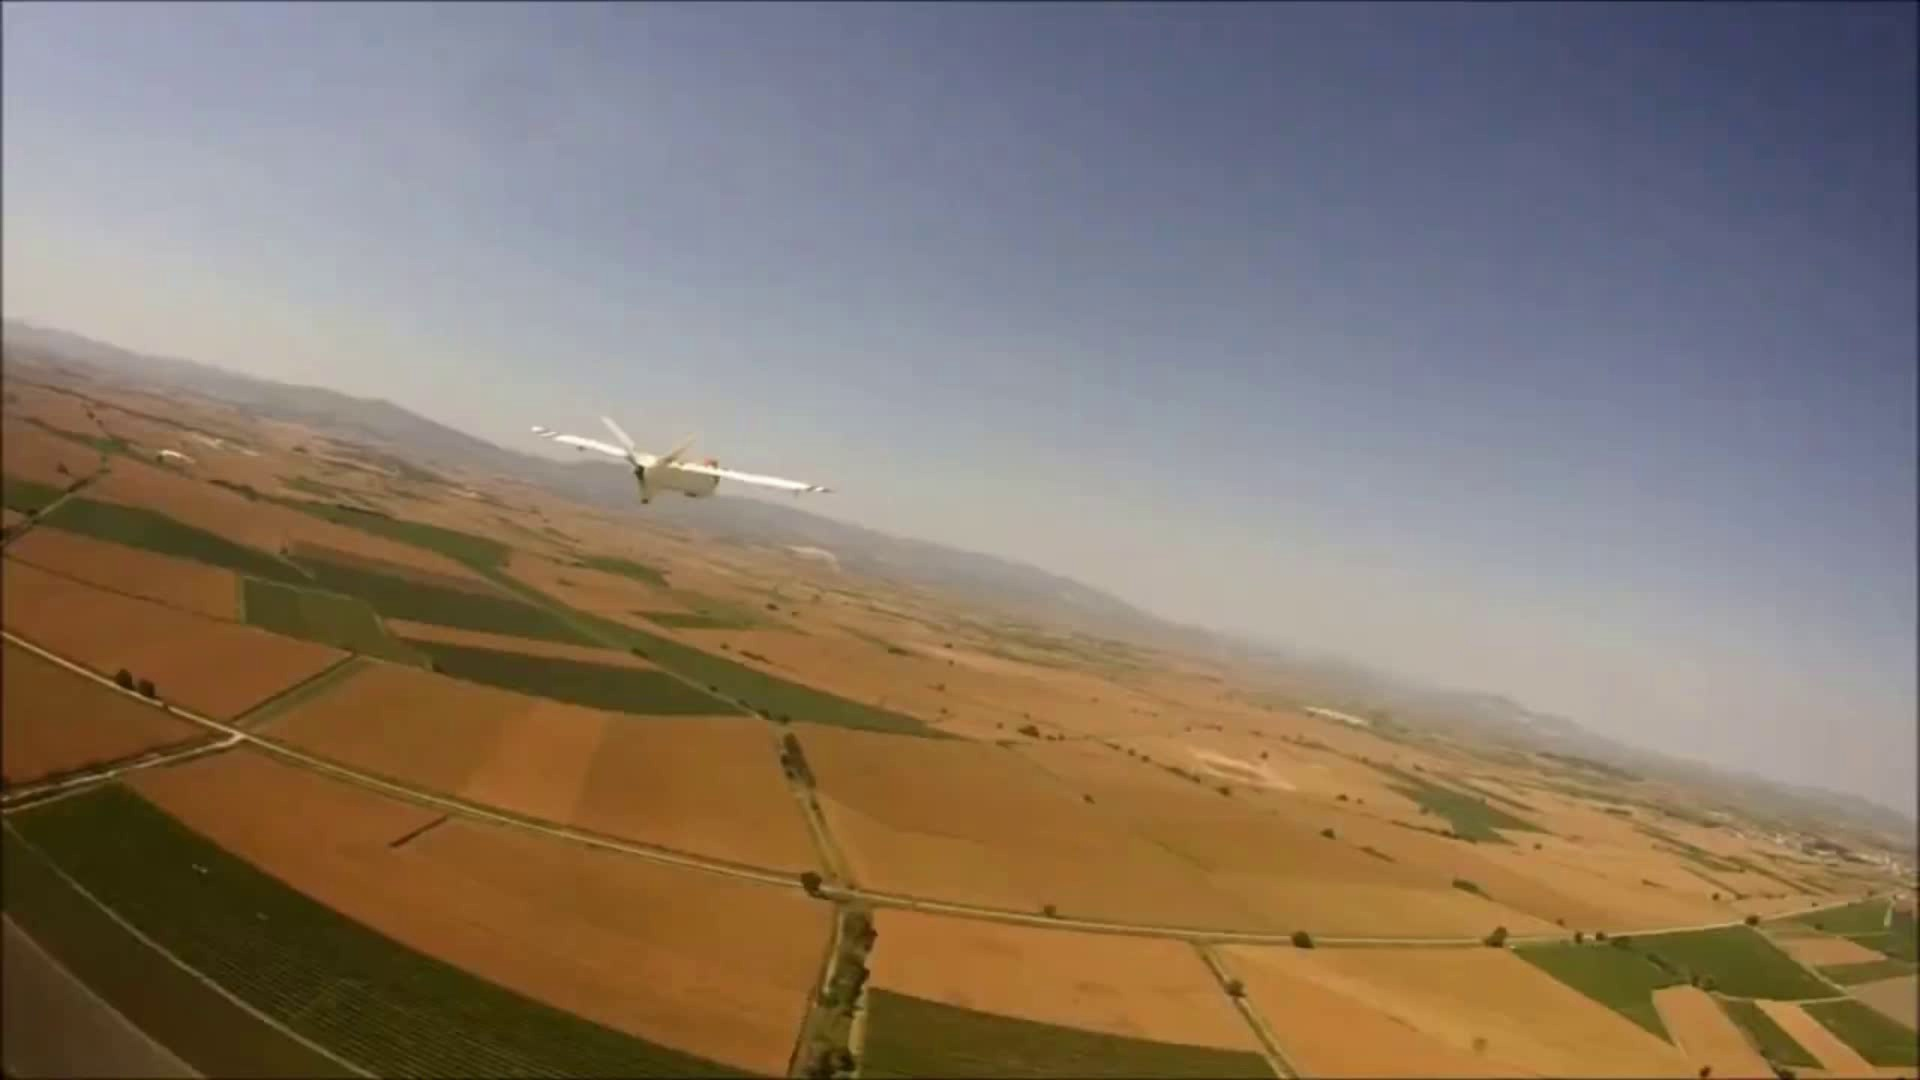airplane: (529, 410, 835, 506)
